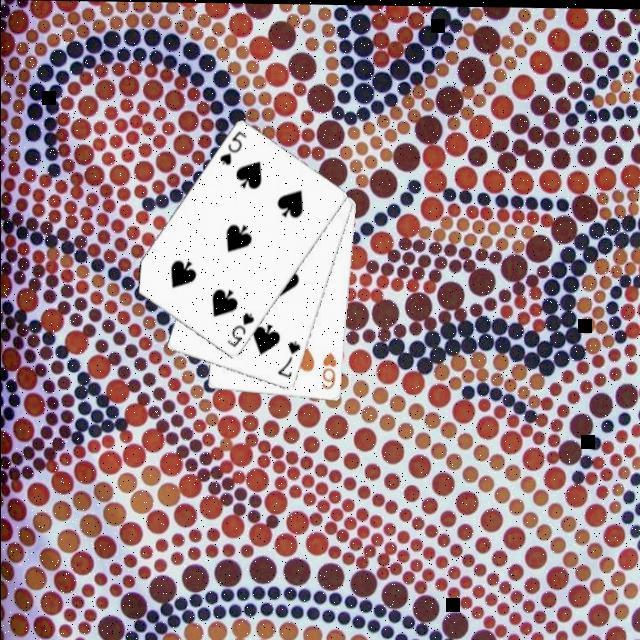5S: (226, 308, 259, 349), (217, 127, 250, 167)
6H: (321, 348, 341, 391)
7S: (276, 337, 304, 380)
